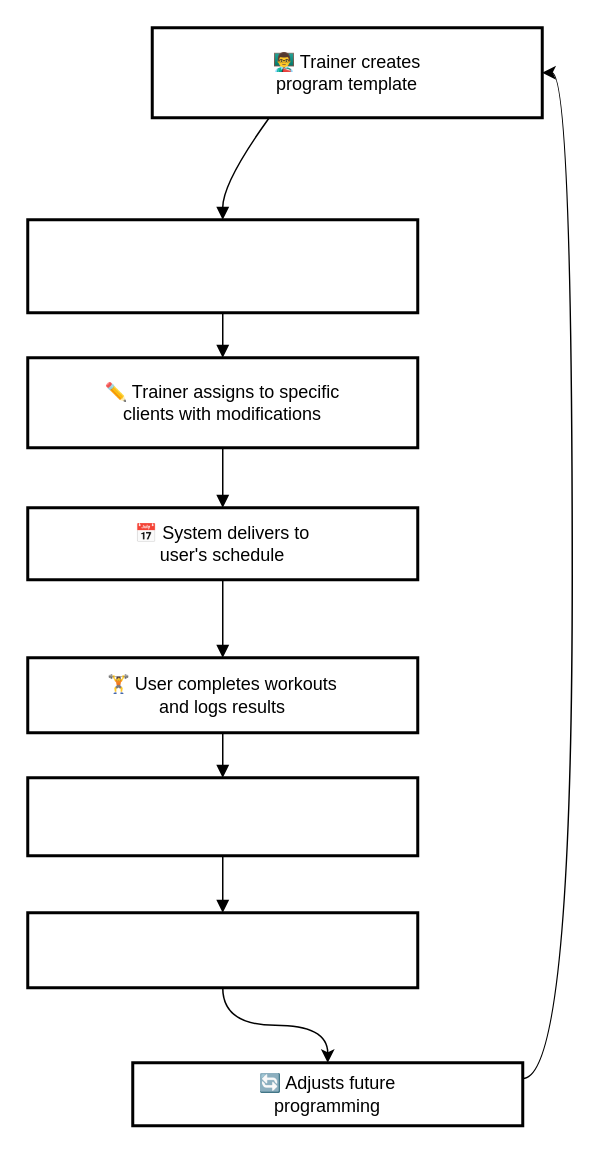
This 599x1152 diagram has some shape labels left out. The shapes that lost their labels are listed below. From the top down, each one's box as (x1, y1, x2, y2) in pixels, then its label:
(26, 218, 418, 314): 💾 System stores structured workout plan
(26, 776, 418, 856): 📊 System aggregates compliance and performance data
(26, 910, 418, 988): 👀 Trainer reviews client progress
